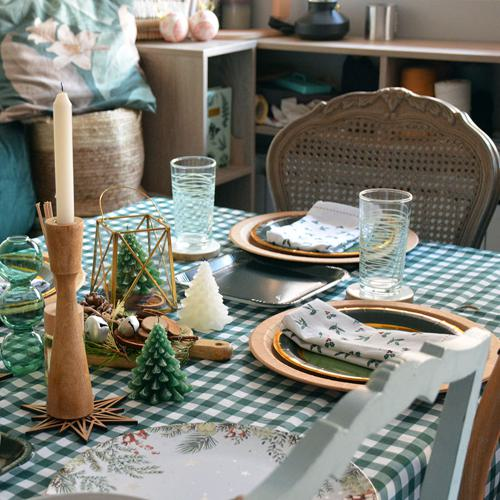vaso: (359, 192, 413, 294), (169, 156, 216, 250)
